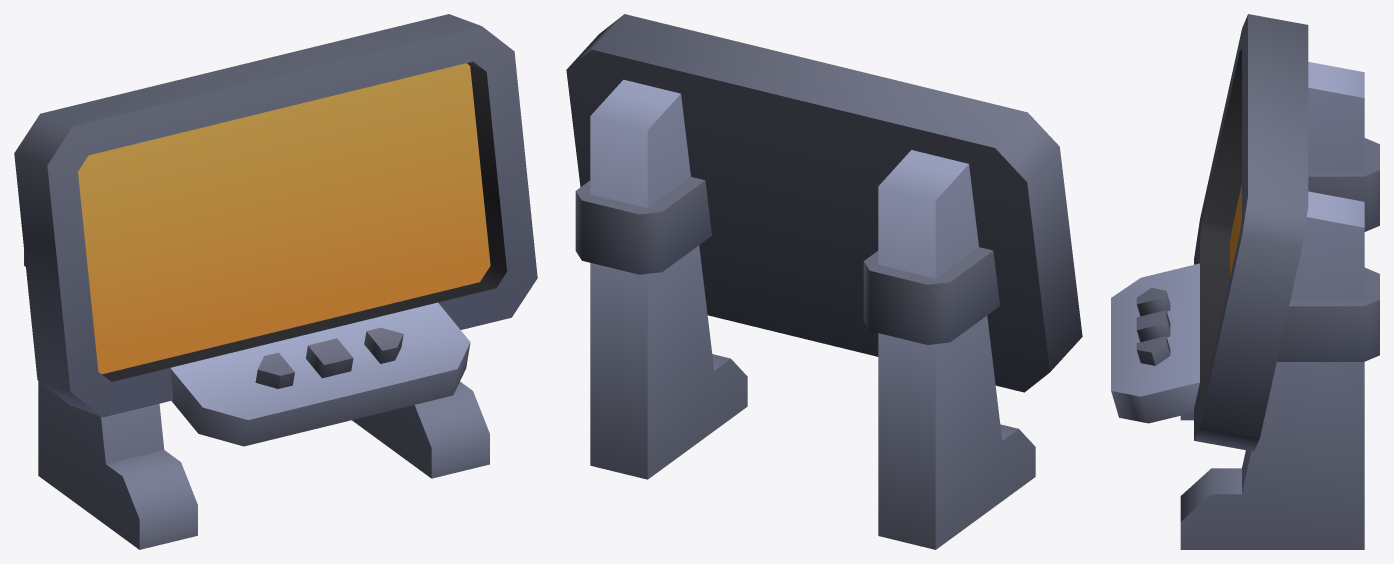
Rendered from computer-screen.glb.
3 views of the same model, side by side, from view 1: azimuth 30°, elevation 25°; view 2: azimuth 150°, elevation 25°; view 3: azimuth 270°, elevation 25° (orthographic). The views are drawn at different scales.
Visible parts, largest first — view 1: computer-screen; view 2: computer-screen; view 3: computer-screen.
Part boxes in pixels (x1,y1,x2,y2): computer-screen: (14,14,537,549); computer-screen: (566,14,1082,549); computer-screen: (1111,14,1379,549).
Size of the model in its own units: 0.8 by 0.6609 by 0.4381.
